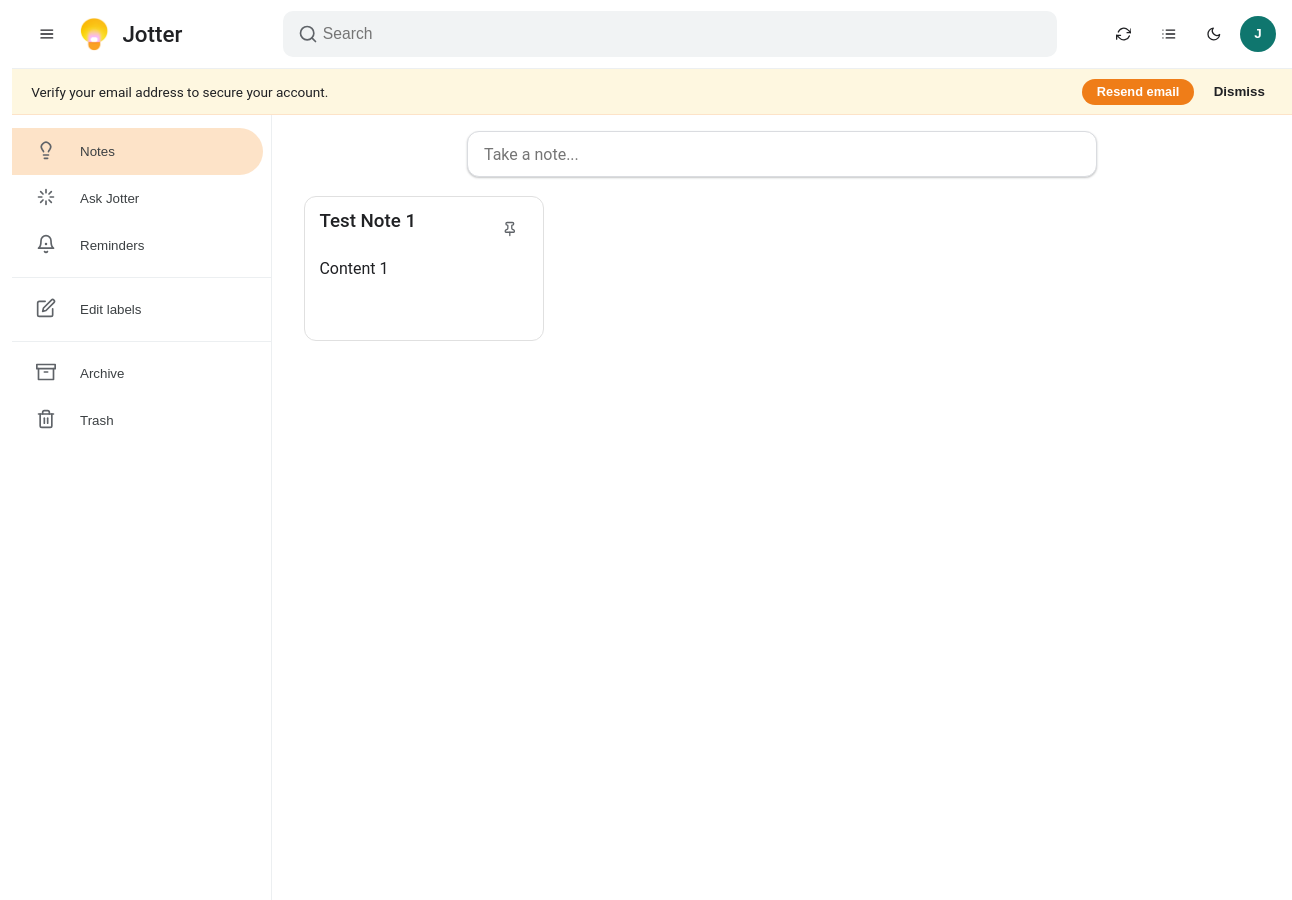
it: DashboardPage — composer, editing, chat, and misc › resends the verification email and shows a confirmation
Check: the text "Verify your email address to secure your account." is shown, box [31,84,328,100]
Click the button "Resend email" at point(1138, 92), box [1082,79,1194,105]
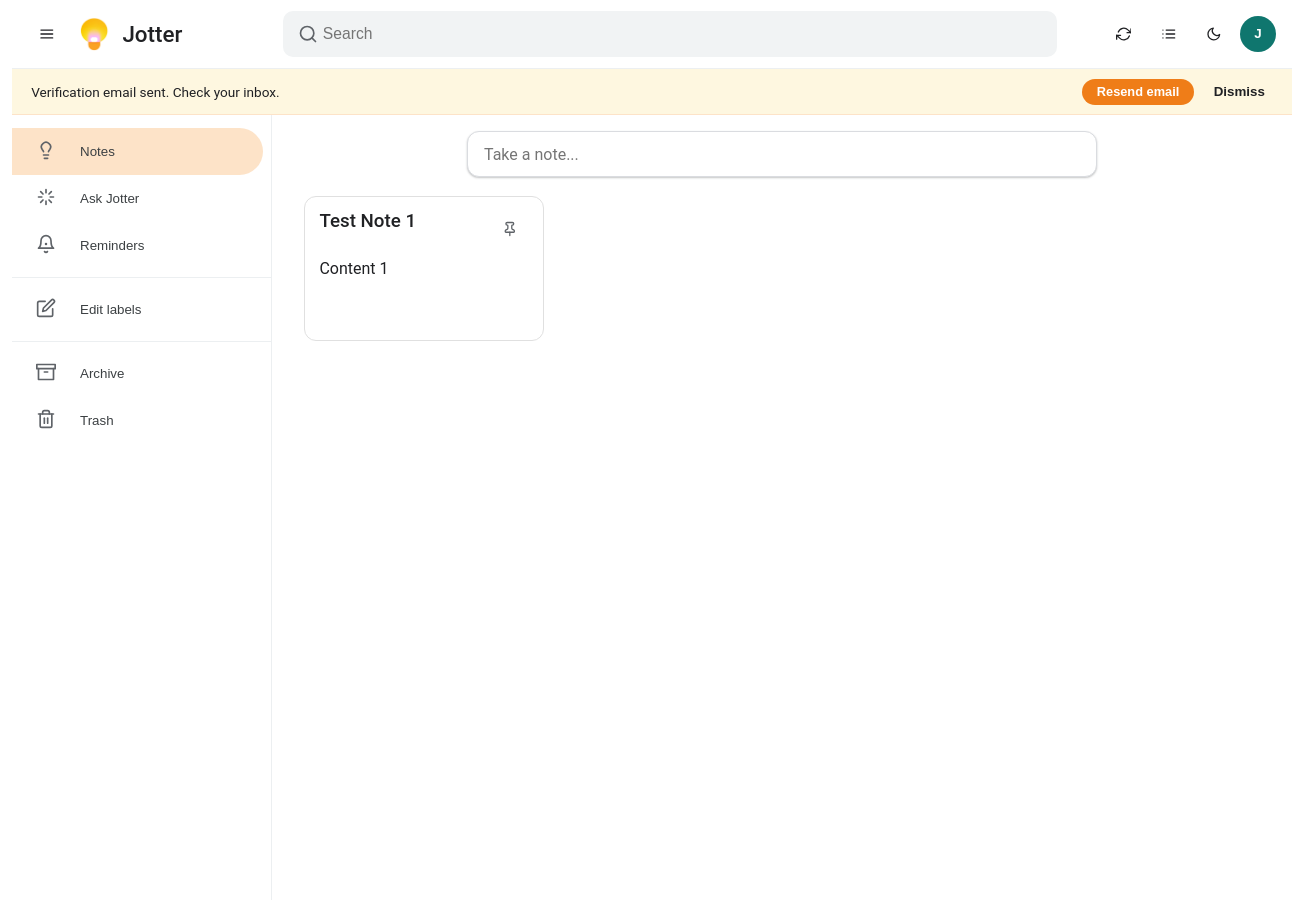
Check: the text "Verification email sent. Check your inbox." is shown, box [31,84,280,100]
